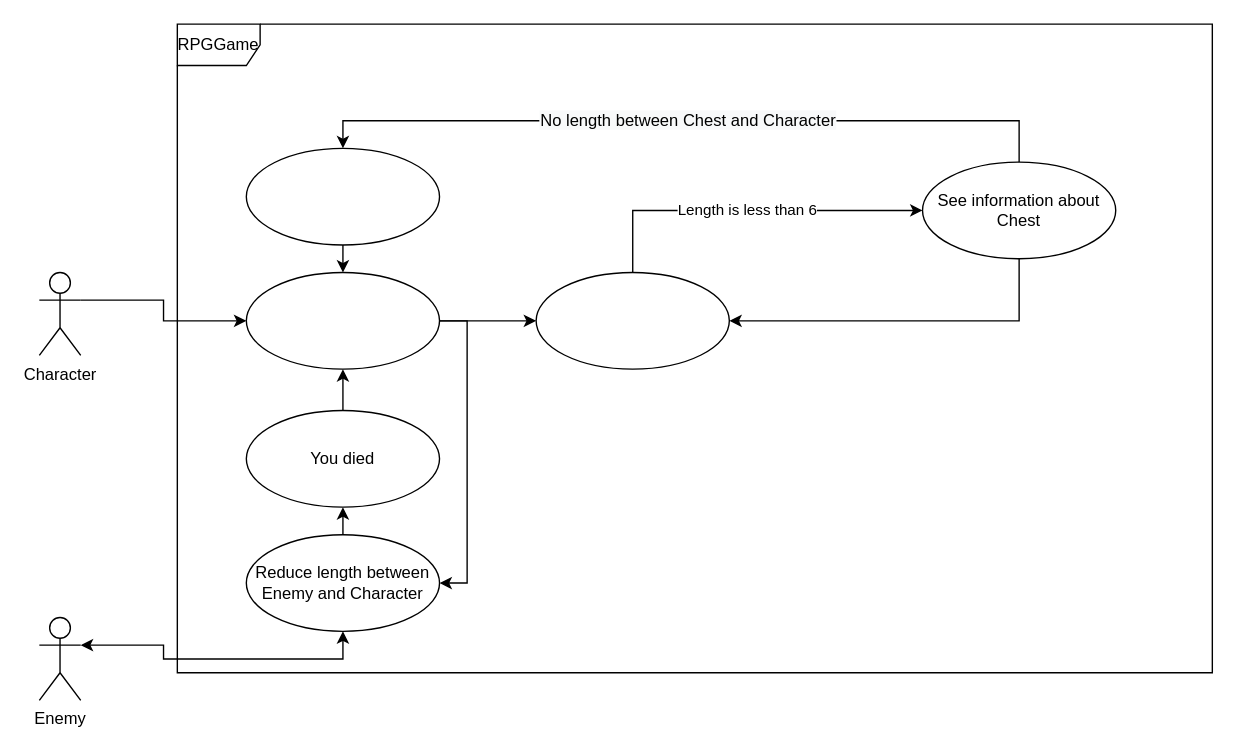
Some shapes in this 1236 by 753 pixel diagram are drawn without their labels. Here are the shapes that lost their labels. From the top down, the centre of each, then its label:
[342,196]: "You found the prize! Congratulations!"
[342,320]: Exit/Continue game
[632,320]: Move up/down/left/right
